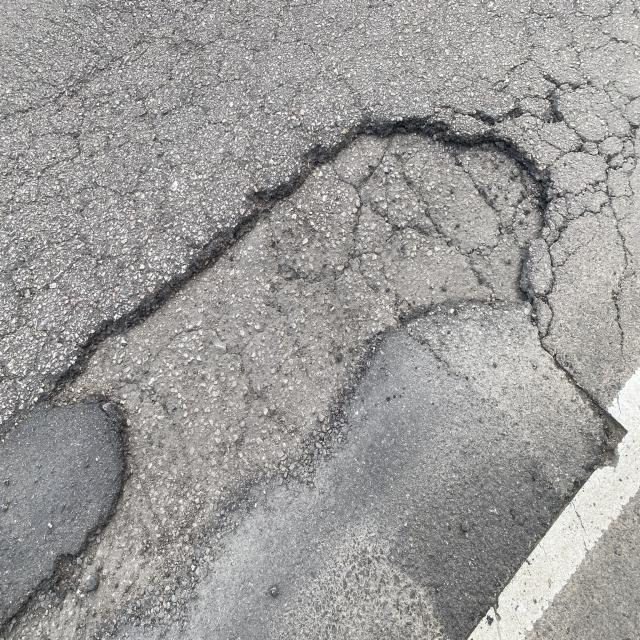Pothole: (38, 62, 597, 428)
